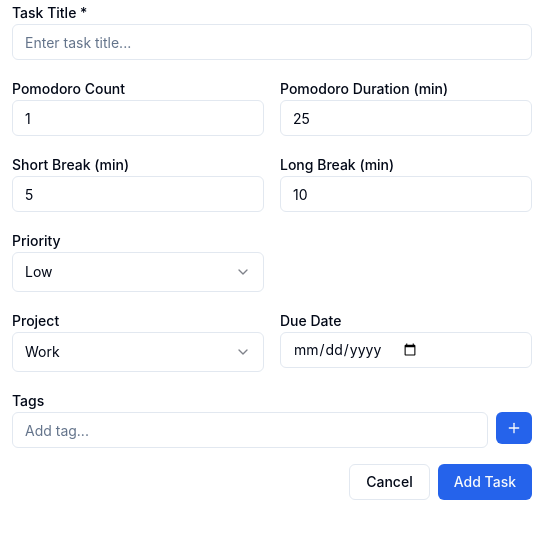
Test: AddTaskForm › adds tags correctly
The width and height of the screenshot is (549, 547).
Type "important" into the field with placeholder "Add tag..." at (250, 430), box top-left (12, 412), bottom-right (488, 448)
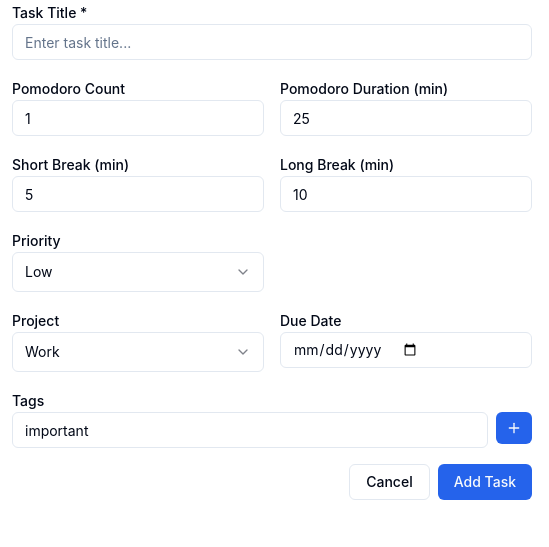
Click the button named "Add tag" at (514, 428), box top-left (496, 412), bottom-right (532, 444)
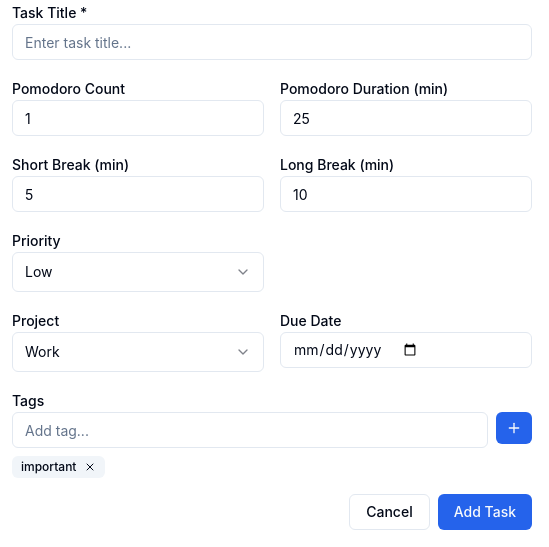
Check: the text "important" is shown, box top-left (21, 459), bottom-right (76, 475)
